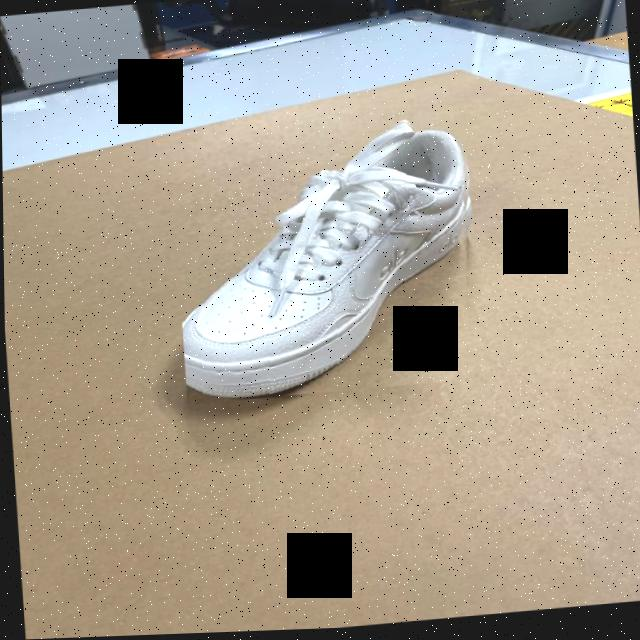shoe: (169, 116, 484, 407)
